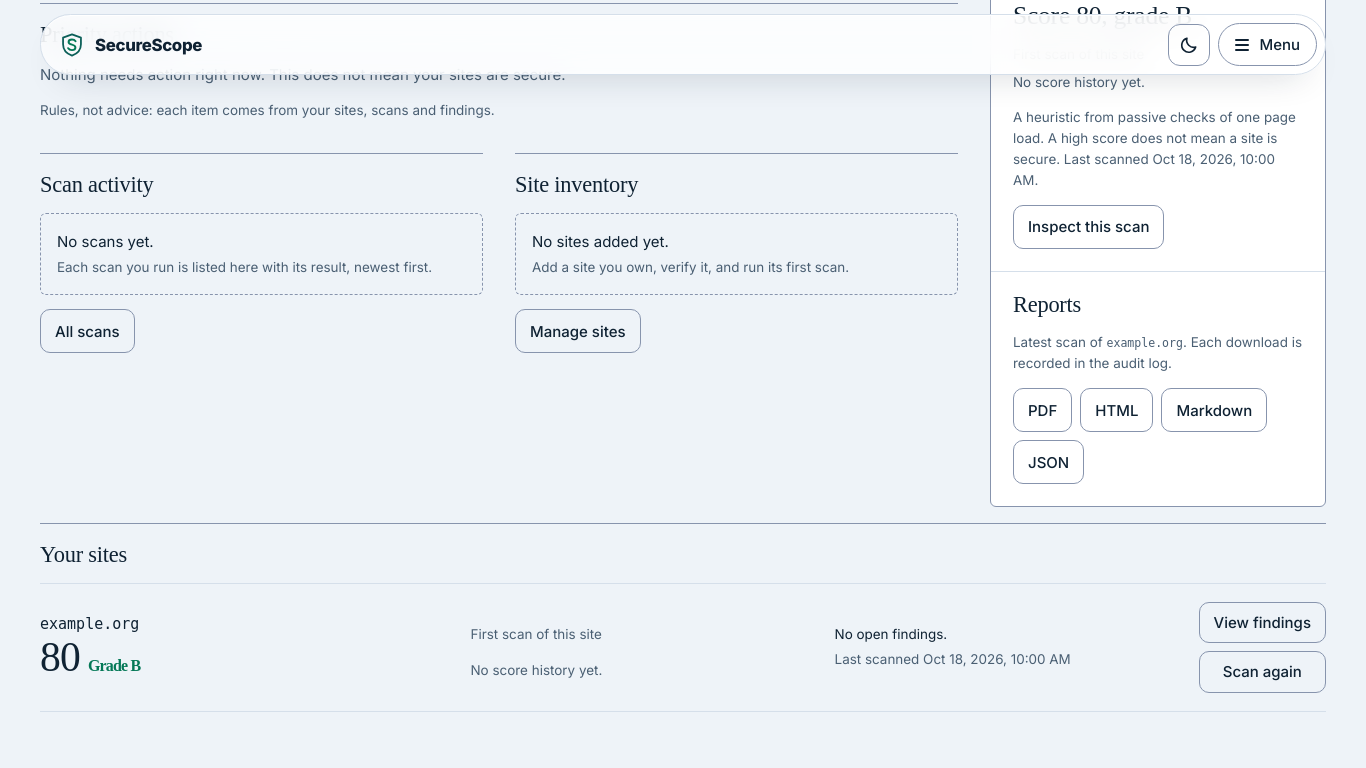
Test: scanning again › shows the reason when the server refuses, for example a rate limit
(page scrolled)
Click the button with aria-label "Scan again of example.org" at (1262, 672), box [1199,651,1326,693]
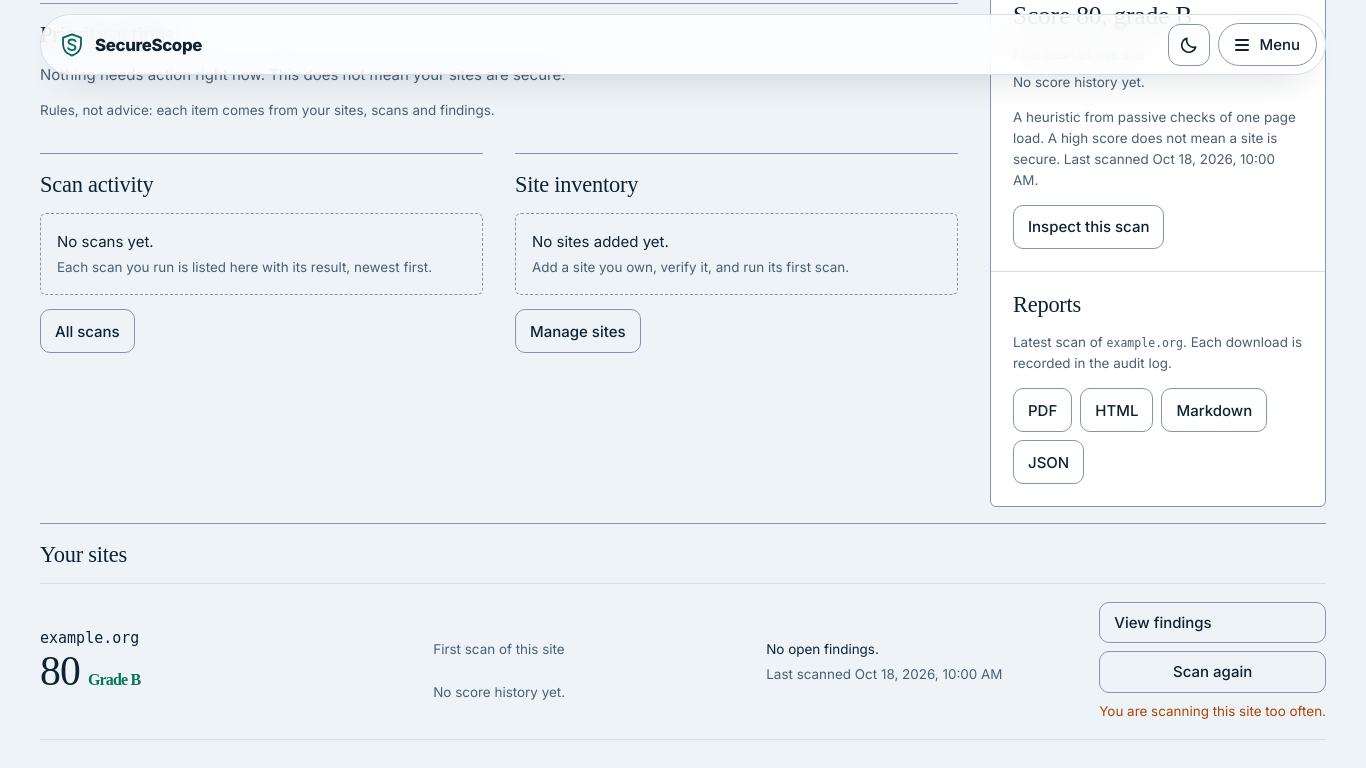
expect the button with aria-label "Scan again of example.org" is enabled: met, box [1099,651,1326,693]
expect the text "You are scanning this site too often." is shown: met, box [1099,700,1326,721]
